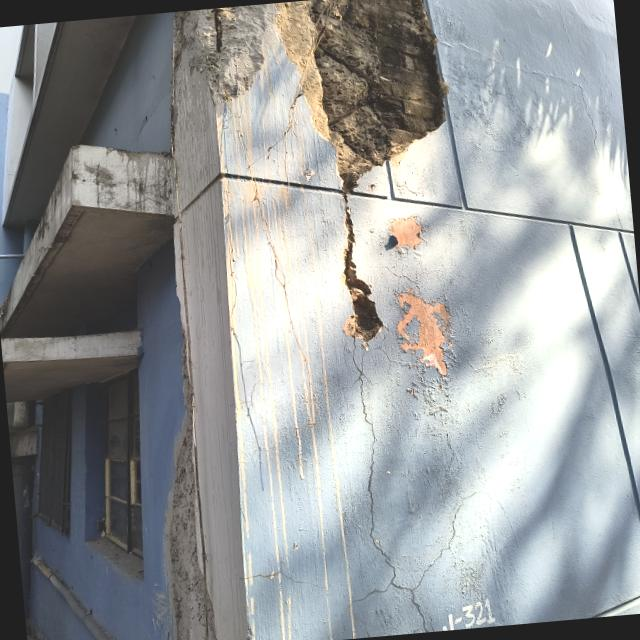Crack: (346, 341, 478, 632), (239, 568, 330, 589)
Paint Peeling: (396, 293, 450, 375), (389, 216, 423, 248)
Scaling: (164, 345, 217, 640)
Spalling: (276, 0, 447, 191), (192, 3, 275, 101), (342, 204, 382, 350)
